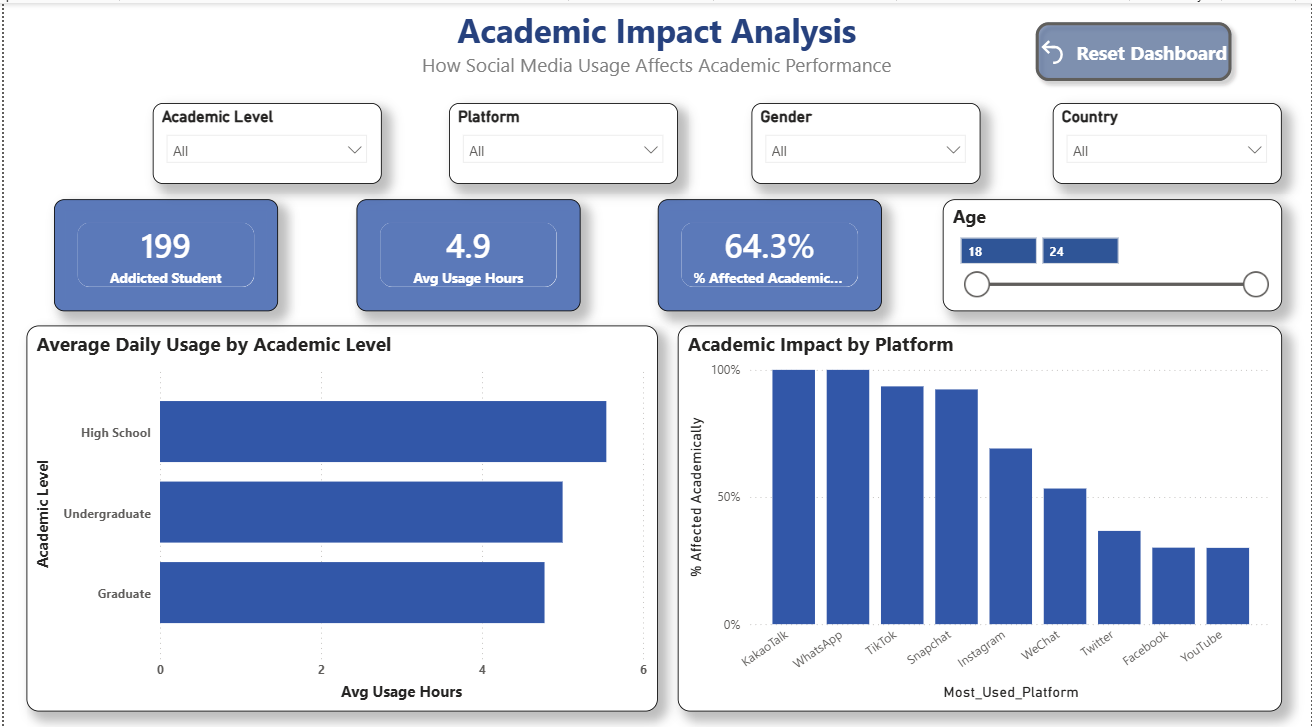

The dashboard page shown, as its layout file describes it:
{"tool":"powerbi","page":{"name":"Academic Impact ","canvas":[1280,720],"ordinal":2},"visuals":[{"type":"barChart","title":"Average Daily Usage by Academic Level","fields":{"Category":["Student Details.Academic_Level"],"Y":["_Measures.Avg Usage Hours"]},"box":[22,315.6,617.5,377.4],"z":0},{"type":"columnChart","title":"Academic Impact by Platform","fields":{"Category":["Platform Details.Most_Used_Platform"],"Y":["_Measures.% Affected Academically"]},"box":[658.7,315.6,591.4,377.4],"z":1000},{"type":"textbox","box":[282.7,0,712.2,97.4],"z":2000},{"type":"cardVisual","fields":{"Data":["_Measures.Addicted_Student_Count"]},"box":[49.4,192.1,219.6,109.8],"z":3000},{"type":"cardVisual","fields":{"Data":["_Measures.Avg Usage Hours"]},"box":[344.4,192.1,219.6,109.8],"z":4000},{"type":"cardVisual","fields":{"Data":["_Measures.% Affected Academically"]},"box":[639.5,192.1,219.6,109.8],"z":5000},{"type":"slicer","title":"Academic Level","fields":{"Values":["Student Details.Academic_Level"]},"box":[145.5,97.4,223.7,79.6],"z":6000},{"type":"slicer","title":"Platform","fields":{"Values":["Platform Details.Most_Used_Platform"]},"box":[435,97.4,223.7,79.6],"z":7000},{"type":"slicer","title":"Gender","fields":{"Values":["Student Details.Gender"]},"box":[731.4,97.4,223.7,79.6],"z":8000},{"type":"slicer","title":"Country","fields":{"Values":["Student Details.Country"]},"box":[1026.4,97.4,223.7,79.6],"z":9000},{"type":"actionButton","box":[1000.6,10,209.5,75.5],"z":10000},{"type":"slicer","title":"Age","fields":{"Values":["Student Details.Age"]},"box":[918,192.1,332.1,109.8],"z":11000}]}

Visuals, with their boxes in screenshot pixels (x1, y1, x2, y2), scaled from the page's 1280x720 canvas onto the 1312x727 screenshot:
"Average Daily Usage by Academic Level" barChart: Rect(23, 319, 655, 700)
"Academic Impact by Platform" columnChart: Rect(675, 319, 1281, 700)
textbox: Rect(290, 0, 1020, 98)
cardVisual - _Measures.Addicted_Student_Count: Rect(51, 194, 276, 305)
cardVisual - _Measures.Avg Usage Hours: Rect(353, 194, 578, 305)
cardVisual - _Measures.% Affected Academically: Rect(655, 194, 881, 305)
"Academic Level" slicer: Rect(149, 98, 378, 179)
"Platform" slicer: Rect(446, 98, 675, 179)
"Gender" slicer: Rect(750, 98, 979, 179)
"Country" slicer: Rect(1052, 98, 1281, 179)
actionButton: Rect(1026, 10, 1240, 86)
"Age" slicer: Rect(941, 194, 1281, 305)
